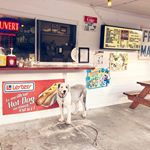puppy: (53, 80, 89, 124)
